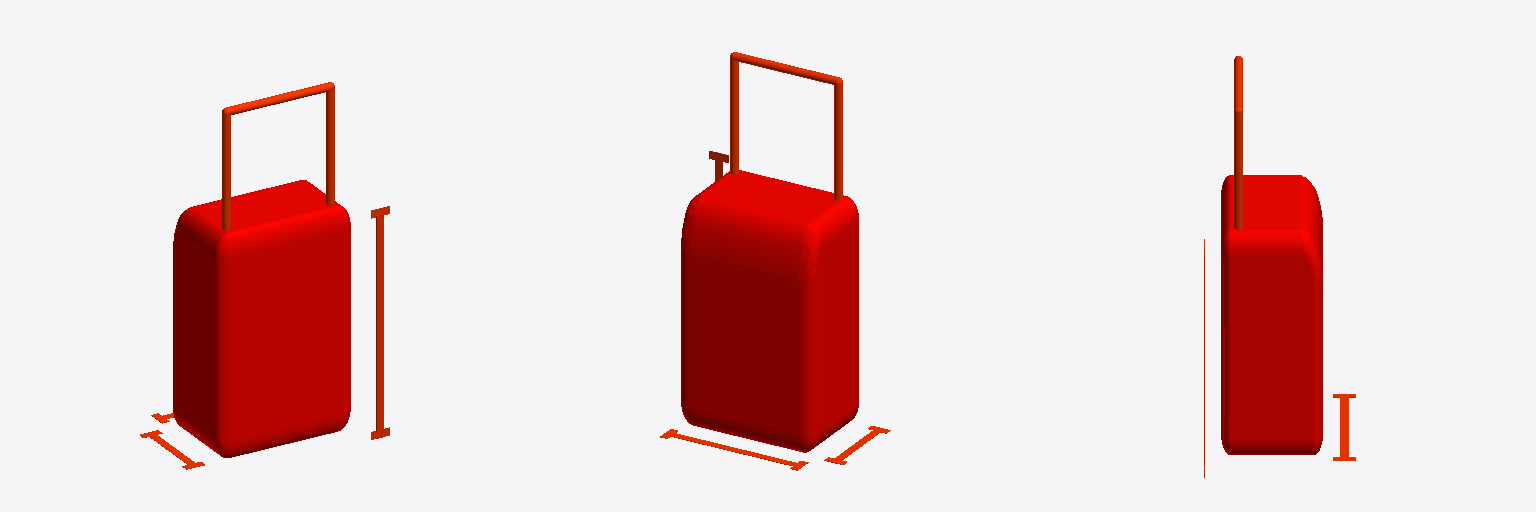
File: suitcase_red.obj
3 views of the same model, side by side, from view 1: azimuth 30°, elevation 25°; view 2: azimuth 150°, elevation 25°; view 3: azimuth 270°, elevation 25° (orthographic).
Visible parts, largest first — view 1: Cube, Sphere, ruler_z_Plane.002; view 2: Cube, Sphere, ruler_y_Plane.007; view 3: Cube, Sphere, ruler_y_Plane.007.
Part boxes in pixels (x1,y1,x2,y2): Cube: (173,180,350,457); Sphere: (222,82,334,230); ruler_z_Plane.002: (371,206,389,439); Cube: (681,170,858,452); Sphere: (730,52,842,199); ruler_y_Plane.007: (660,429,808,470); Cube: (1221,175,1322,454); Sphere: (1234,56,1242,229); ruler_y_Plane.007: (1333,394,1355,460).
Bounding box in the file's own units: 0.4995 × 0.8708 × 0.3405.